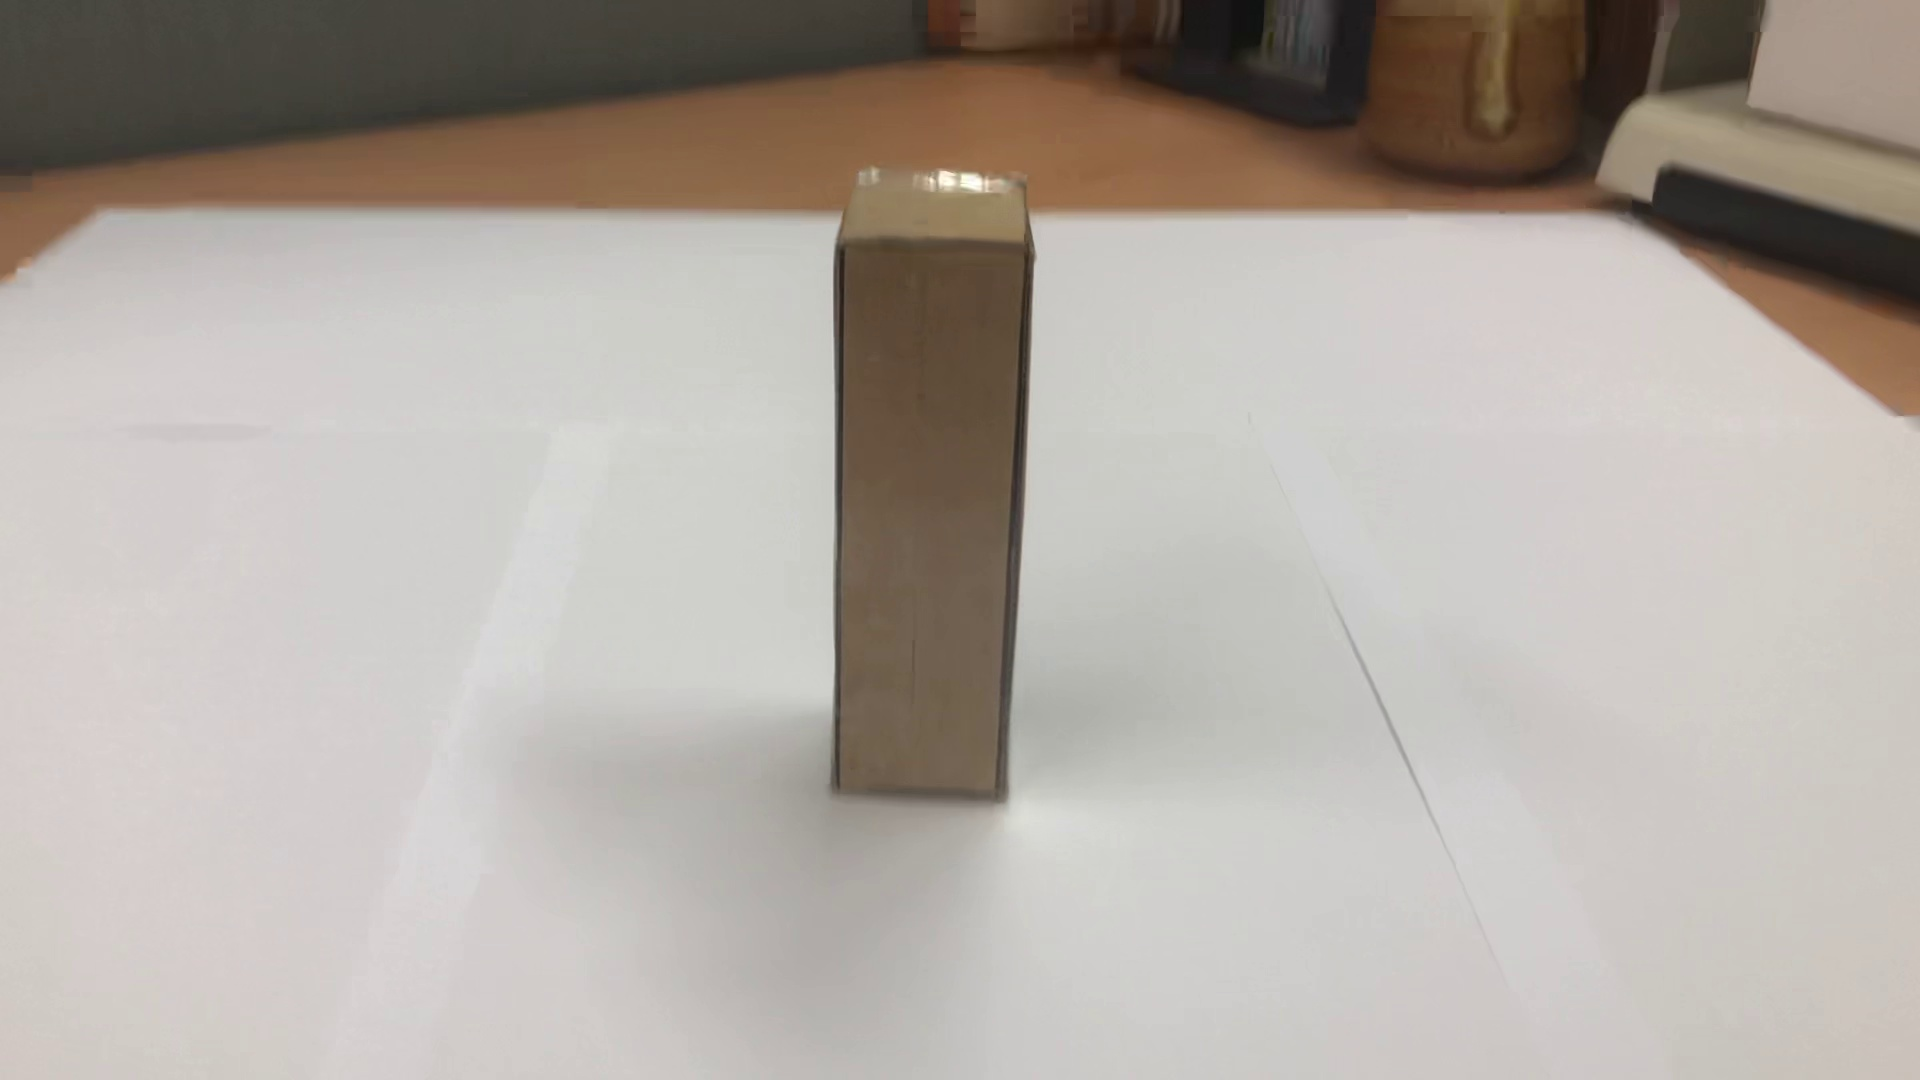box: (804, 142, 1051, 852)
